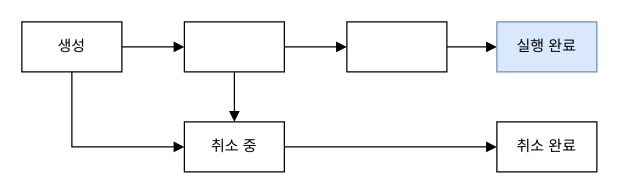
The diagram is 619 pixels wide and 194 high, and some of its shapes have lost their labels. The shapes that lost their labels are listed below. From the top down, each one's centre as x and y in pixels, then its label:
At [233,46]: "실행 중".
At [396,46]: "실행 완료 중".
